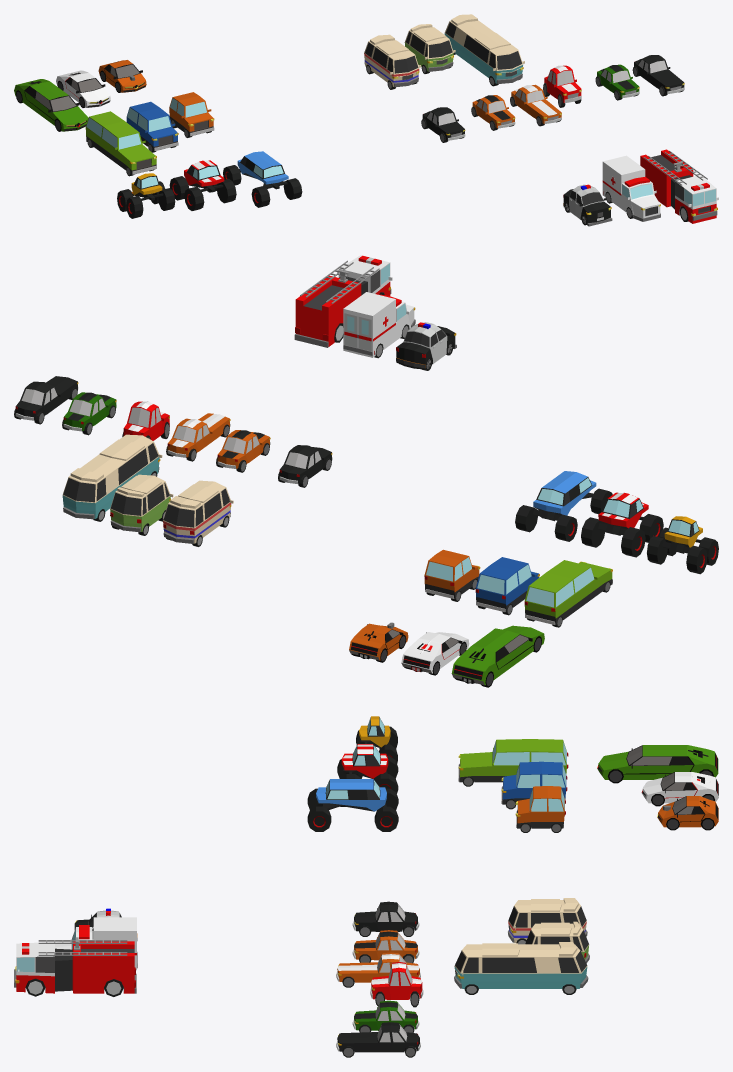
The model's file is car3 (1).fbx.
The picture shows the model from 3 angles, top to bottom: view 1: azimuth 30°, elevation 25°; view 2: azimuth 150°, elevation 25°; view 3: azimuth 270°, elevation 25°; orthographic projection. The views are drawn at different scales.
Parts seen in each view (by area): view 1: Cube.089, Cube.122, Cube.138, Cube, Cube.146, Cube.114, Cube.134, Cube.118, Cube.130, Cube.142, Cube.057, Cube.112 (+13 smaller); view 2: Cube.122, Cube.089, Cube.138, Cube, Cube.146, Cube.114, Cube.118, Cube.134, Cube.130, Cube.112, Cube.057, Cube.142 (+12 smaller); view 3: Cube.089, Cube.122, Cube.146, Cube.138, Cube.114, Cube.112, Cube.134, Cube.148, Cube.130, Cube.142, Cube, Cube.144 (+10 smaller).
Boxes of the visible parts, x1,y1,x2,y2 form: Cube.089: (640,149,717,223); Cube.122: (444,14,523,83); Cube.138: (85,111,156,174); Cube: (602,155,660,221); Cube.146: (14,79,88,131); Cube.114: (364,34,419,87); Cube.134: (126,101,178,151); Cube.118: (404,24,453,71); Cube.130: (169,92,214,136); Cube.142: (56,70,110,107); Cube.057: (563,184,610,223); Cube.112: (237,151,288,189); Cube.122: (62,434,159,519); Cube.089: (294,255,391,347); Cube.138: (524,560,612,625); Cube: (343,292,415,357); Cube.146: (451,625,544,685); Cube.114: (163,480,231,543); Cube.118: (110,474,170,532); Cube.134: (475,557,539,612); Cube.130: (424,549,479,599); Cube.112: (533,471,596,521); Cube.057: (396,322,455,369); Cube.142: (401,632,469,673); Cube.089: (14,937,136,996); Cube.122: (454,942,588,988); Cube.146: (597,745,718,779); Cube.138: (458,739,566,782); Cube.114: (508,898,587,942); Cube.112: (316,779,386,811); Cube.134: (501,761,566,804); Cube.148: (336,1022,420,1052); Cube.130: (516,786,564,828); Cube.142: (641,772,718,803); Cube: (55,917,137,970); Cube.144: (657,796,718,827).
Size of the model in its own units: 6162 by 463 by 5933.
Materials: 2 (2 with a texture image).
